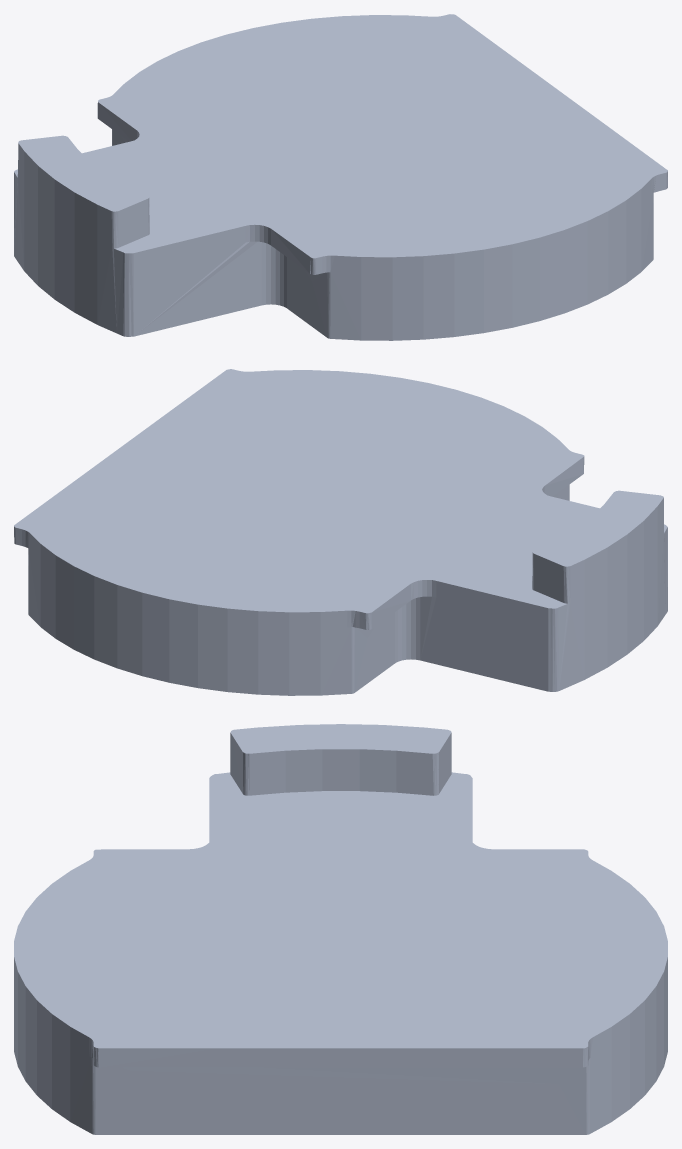
3 renders of one model, top to bottom at view 1: azimuth 30°, elevation 25°; view 2: azimuth 150°, elevation 25°; view 3: azimuth 270°, elevation 25°, orthographic. The views are drawn at different scales.
Visible parts, largest first — view 1: link1_01; view 2: link1_01; view 3: link1_01.
Part boxes in pixels (<box>): link1_01: <box>14,14,667,340</box>; link1_01: <box>14,369,667,695</box>; link1_01: <box>14,724,667,1134</box>.
Size of the model in its own units: 0.0635 by 0.0144 by 0.0621.
